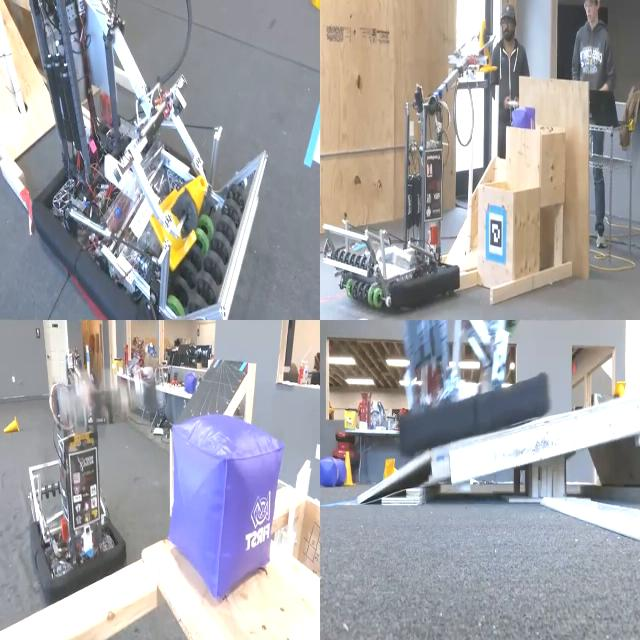frc_cone: (150, 167, 212, 272), (474, 15, 498, 76), (381, 454, 405, 482), (345, 447, 361, 489), (1, 412, 19, 438), (614, 378, 630, 406)
frc_cube: (162, 408, 284, 593), (321, 450, 344, 492), (509, 100, 537, 131), (183, 371, 199, 398)
